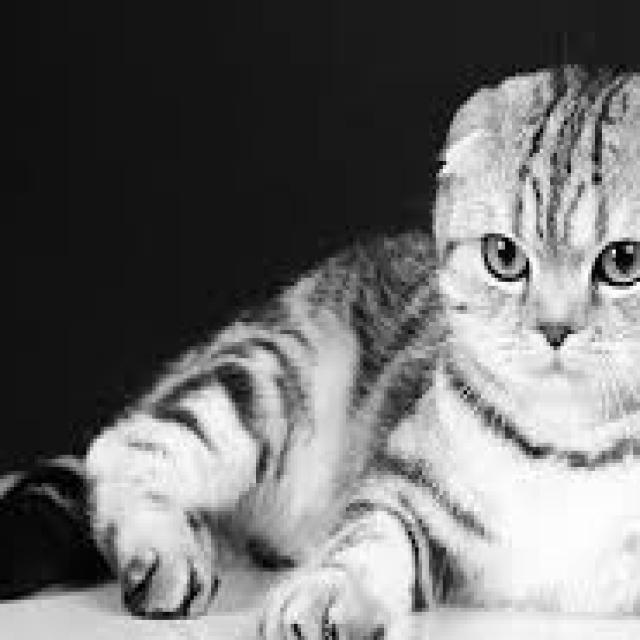scootish: (425, 64, 640, 410)
